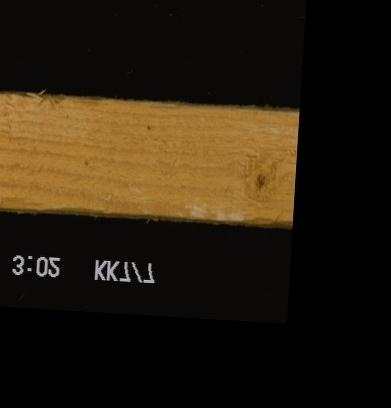sound_knot: (253, 171, 267, 189)
